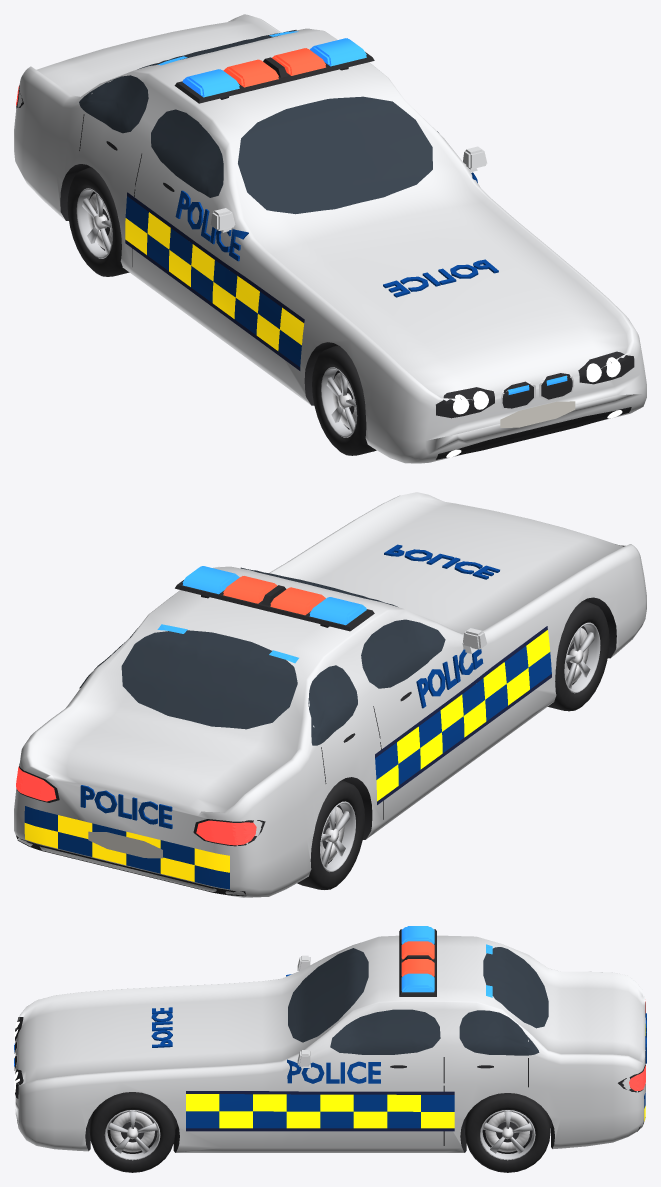
Rendered from interceptor.glb.
3 renders of one model, top to bottom at view 1: azimuth 30°, elevation 25°; view 2: azimuth 150°, elevation 25°; view 3: azimuth 270°, elevation 25°, orthographic. The views are drawn at different scales.
Parts seen in each view (by area): view 1: body, glass, trim, livery_blue, wheel_fr, wheel_rr, livery_yellow, lightbar_blue, lightbar_red, livery_dark, lights, plates (+1 smaller); view 2: body, glass, livery_blue, livery_yellow, wheel_fr, wheel_rr, trim, lightbar_blue, lights, lightbar_red, livery_dark, plates; view 3: body, glass, livery_blue, wheel_fl, wheel_rl, livery_yellow, livery_dark, trim, lightbar_blue, lightbar_red, lights, mirrors.
Part boxes in pixels (x1,y1,x2,y2): body: (14,14,646,463); glass: (79,30,438,214); trim: (16,52,634,459); livery_blue: (125,172,498,366); wheel_fr: (312,345,376,455); wheel_rr: (67,167,129,276); livery_yellow: (125,212,304,350); lightbar_blue: (182,38,366,97); lightbar_red: (223,48,325,87); livery_dark: (125,192,304,370); lights: (16,86,622,457); plates: (500,401,575,427); body: (14,492,646,897); glass: (79,567,445,745); livery_blue: (24,544,551,889); livery_yellow: (24,630,550,881); wheel_fr: (547,600,609,711); wheel_rr: (297,780,364,889); trim: (16,546,624,896); lightbar_blue: (182,566,366,625); lights: (16,766,256,845); lightbar_red: (223,576,325,615); livery_dark: (375,626,551,804); plates: (88,831,162,858); body: (15,935,645,1152); glass: (288,947,548,1055); livery_blue: (151,974,646,1128); wheel_fl: (89,1092,175,1172); wheel_rl: (465,1093,550,1172); livery_yellow: (186,1024,645,1128); livery_dark: (186,1091,454,1131); trim: (14,929,645,1152); lightbar_blue: (401,926,434,992); lightbar_red: (401,941,434,976); lights: (14,1001,645,1124); mirrors: (297,955,310,1067).
Bounding box in the file's own units: 1.85 × 1.47 × 4.88.
